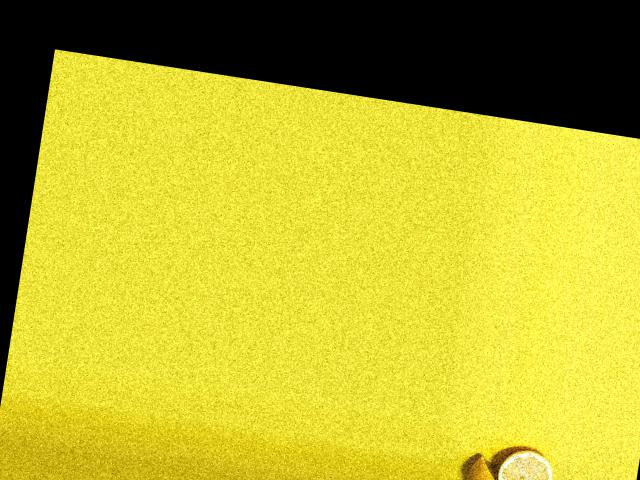lemon: (461, 446, 519, 480)
